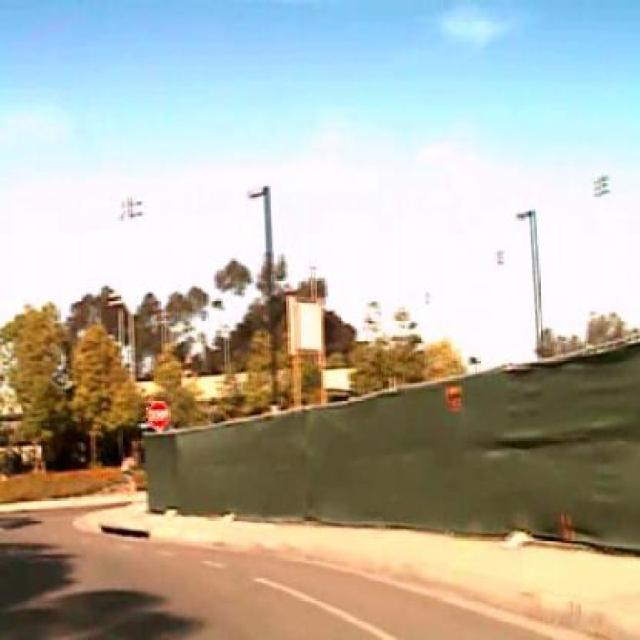stop: (146, 398, 169, 431)
